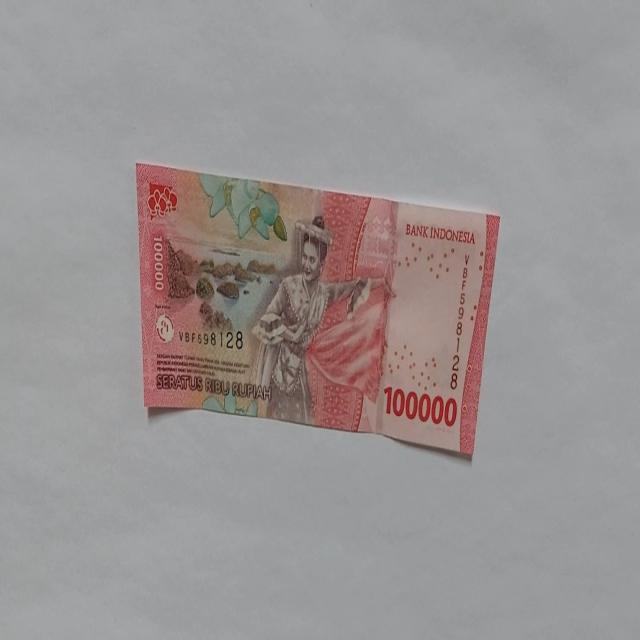seratus ribu rupiah: (134, 160, 502, 462), (248, 214, 374, 427)
